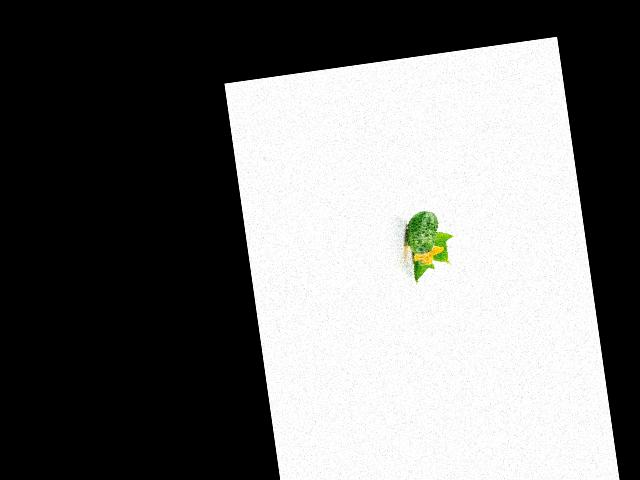cucumber: (403, 209, 441, 255)
